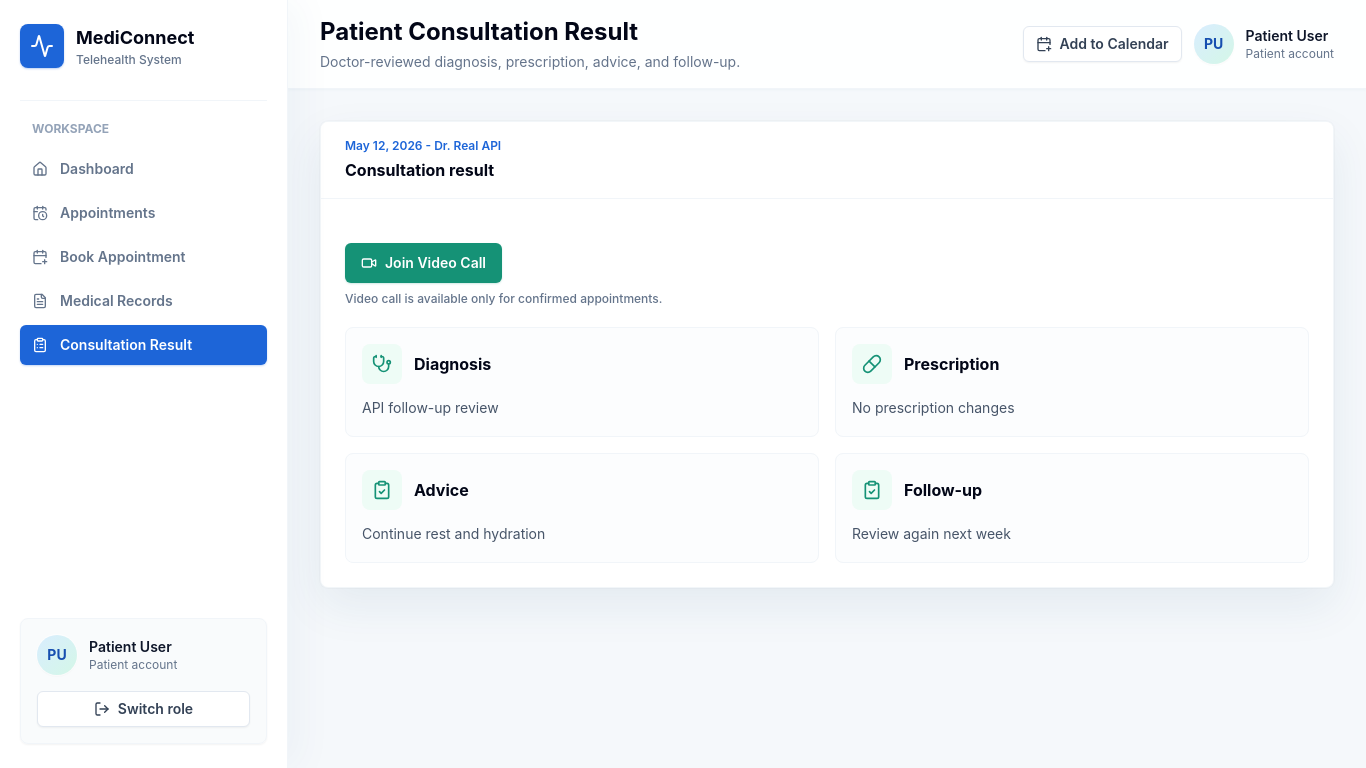
Test: Telehealth frontend routes › lets patients open the video room for a confirmed consultation inside the access window
Click the button "Join Video Call". click: {"x": 424, "y": 263}
box: [345,243,502,283]
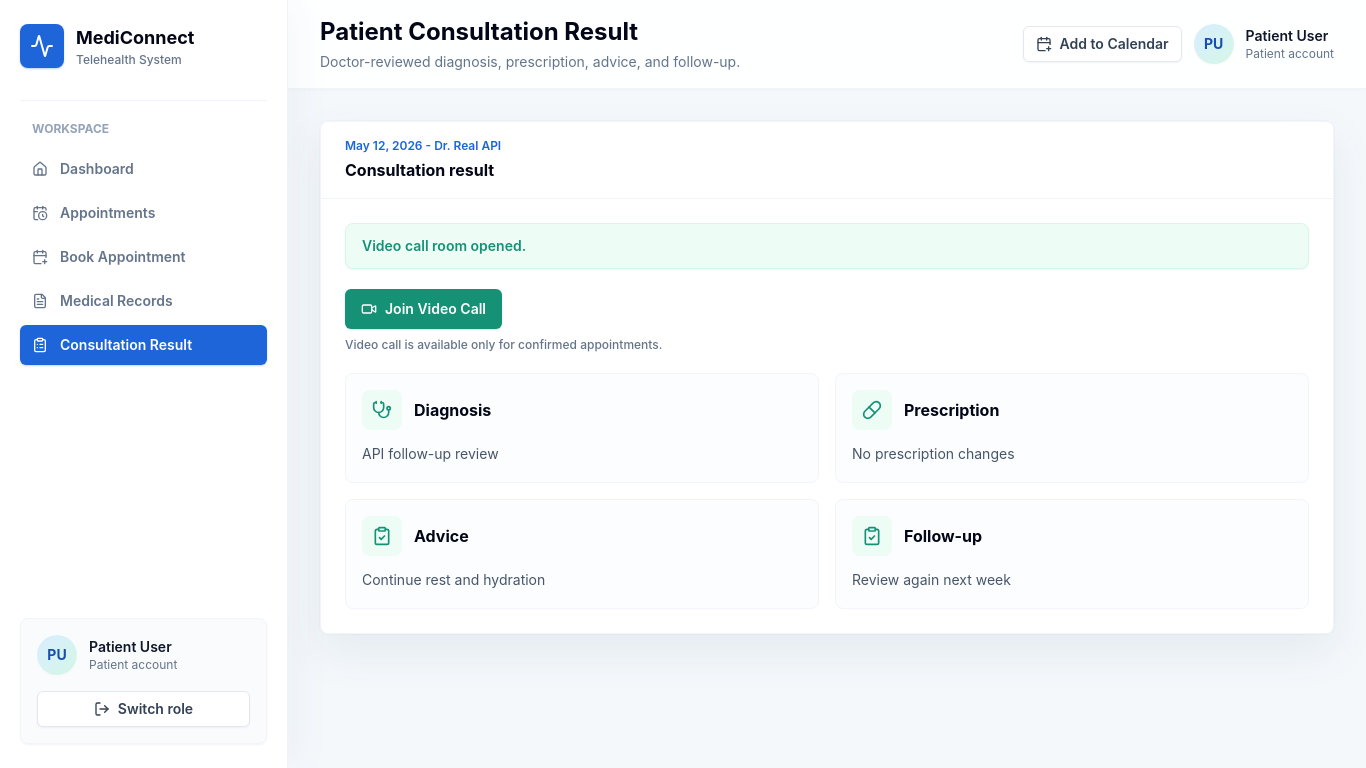
expect the text "Video call room opened." is shown: met, box [345,223,1309,269]
